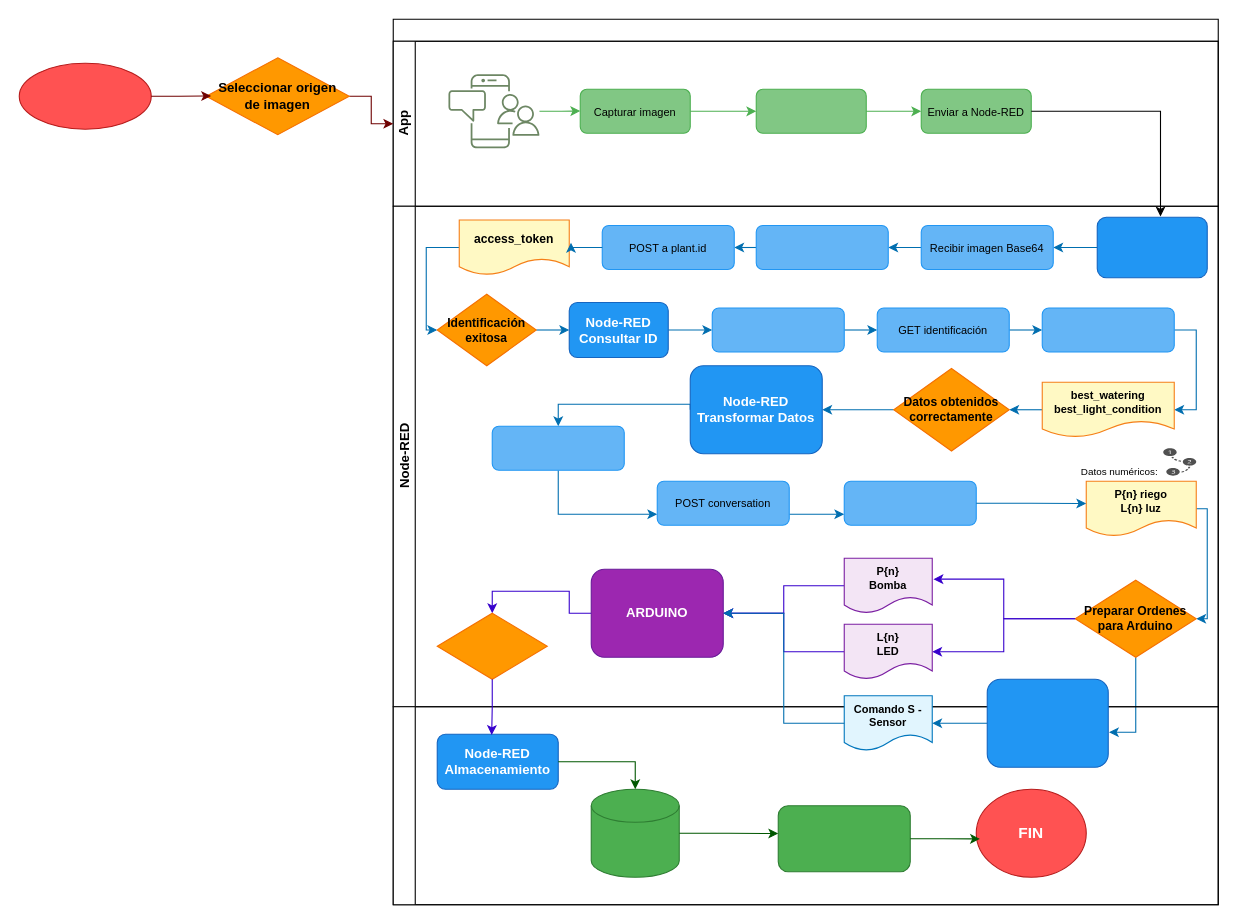
Image size: 1238x924. Some labels were removed from this diagram. Here are the shapes that lost their labels. From the top down, the centre of each, then its label:
the point at 84,95: INICIO SmartPlant
the point at 810,110: Convertir a Base64
the point at 821,247: Agregar API Key
the point at 1151,247: Node-RED Obtener Imagen
the point at 777,329: Usar access_token
the point at 1107,329: Extraer datos
the point at 557,447: Crear prompt chatbot
the point at 909,502: Generar JSON Arduino
the point at 491,645: Retorna Valor confirmacion
the point at 1047,722: Node-RED Obtener Humedad
the point at 634,832: UBIDOTS
the point at 843,838: Dashboard Ubidots
